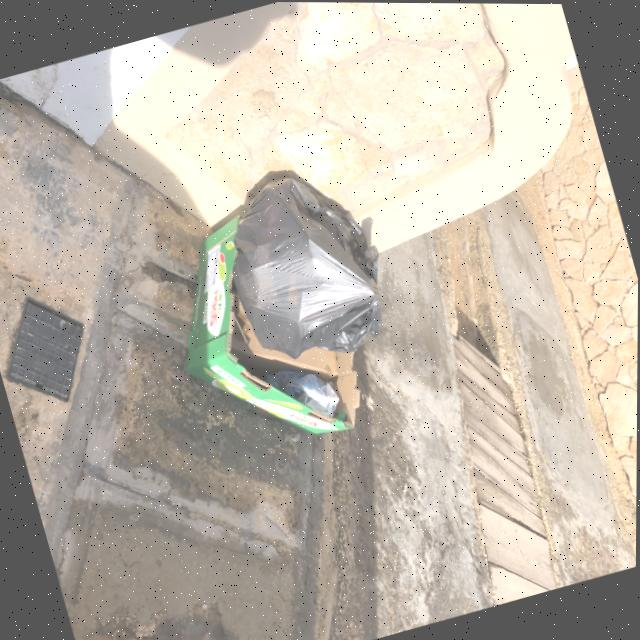Mixed Waste -Black Bag-: (212, 160, 402, 378)
Other: (151, 192, 378, 472)
